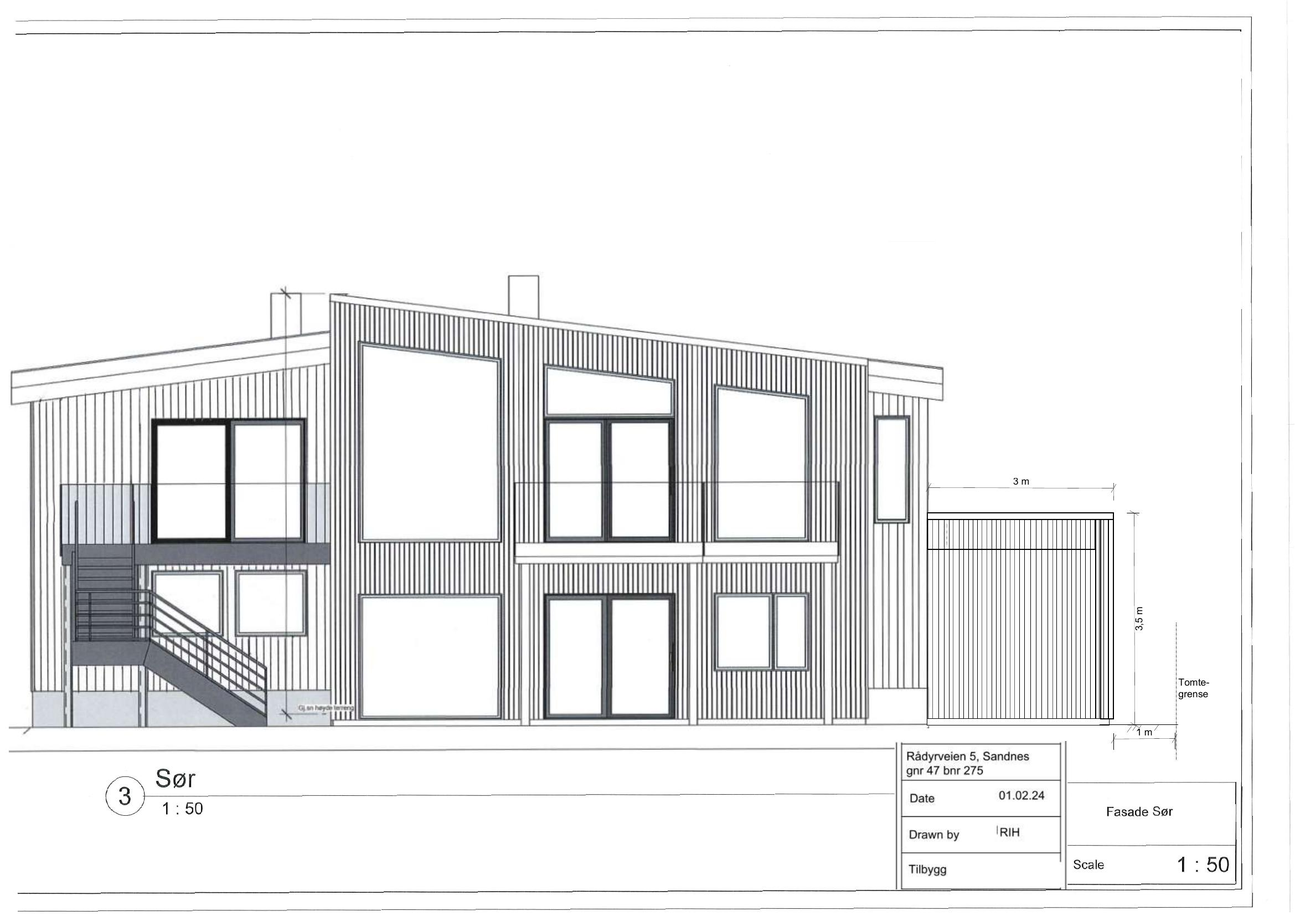fasade: (10, 272, 1119, 737)
